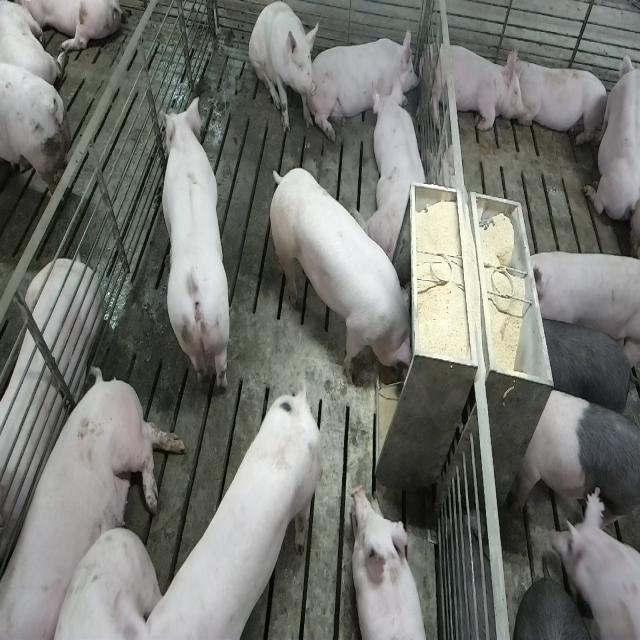Feeding: (272, 165, 420, 389)
Lateral_lying: (3, 367, 187, 640), (0, 255, 103, 584)
Sitting: (249, 2, 319, 136)
Standing: (129, 387, 327, 640), (155, 94, 230, 398), (516, 384, 638, 559), (550, 482, 640, 639), (533, 314, 638, 419), (524, 251, 637, 347)
Sternal_lying: (351, 483, 433, 640), (366, 80, 431, 264), (314, 26, 422, 134), (584, 42, 637, 235), (426, 38, 526, 137), (511, 52, 610, 148)
